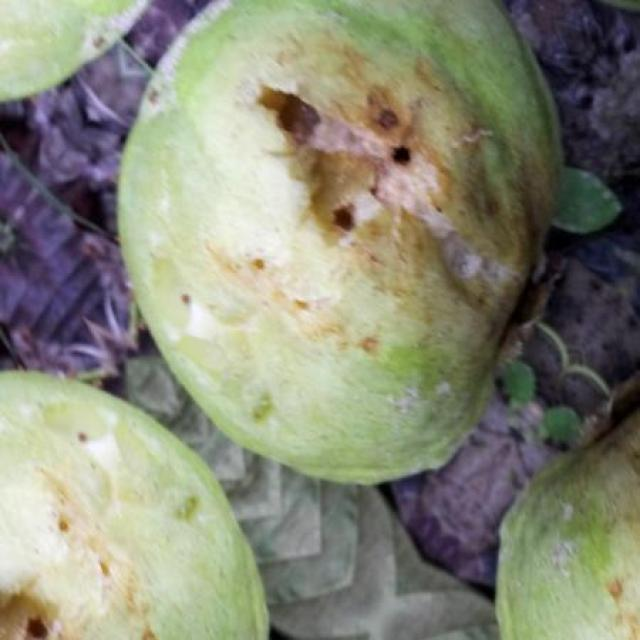Styler and Root: (119, 0, 562, 482), (0, 372, 268, 640)
